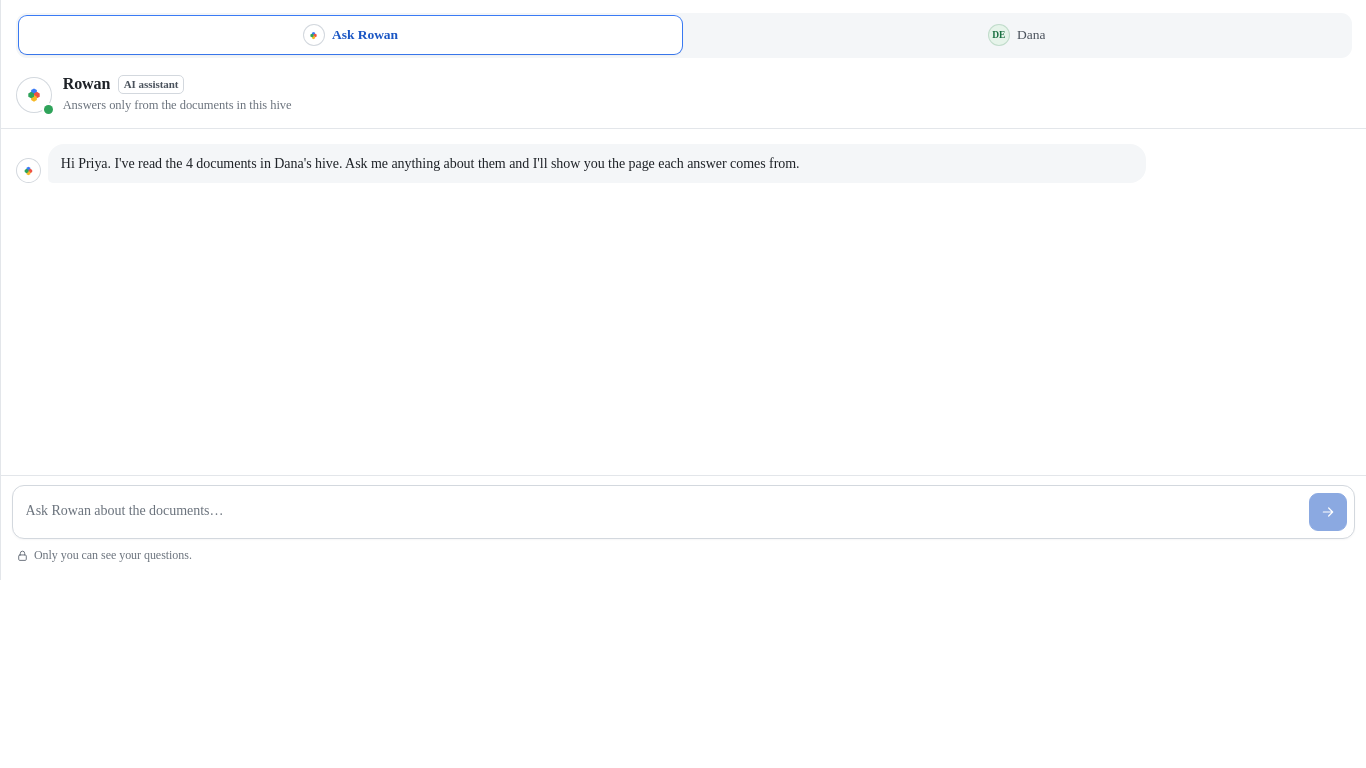
HiveHomeSidePanel › switches to the people conversation and keeps the choice in the URL
Later steps or results of the test are not shown.
Click the button "DE Dana". click: (1017, 35)
box: [685, 16, 1348, 54]
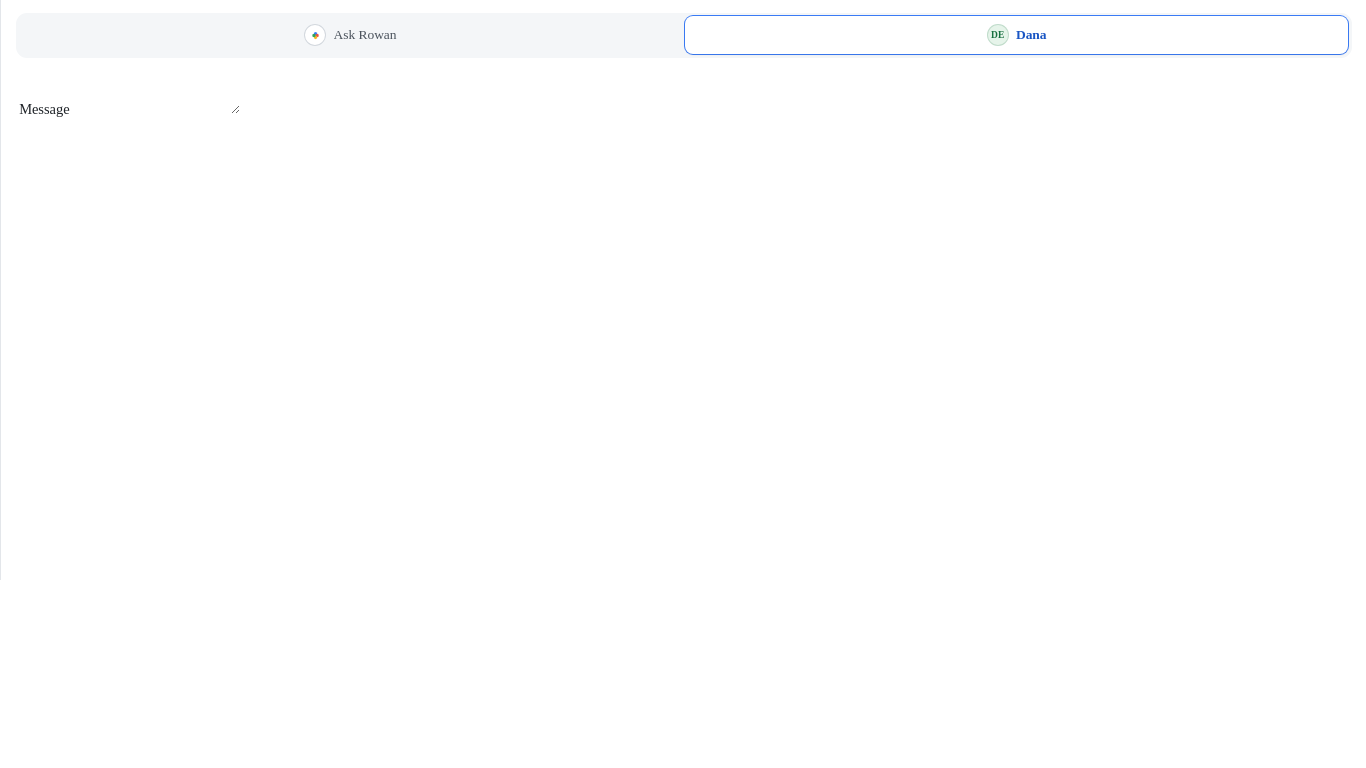
Expected: the element with test id "people-node" is shown, [19, 69, 240, 117]
